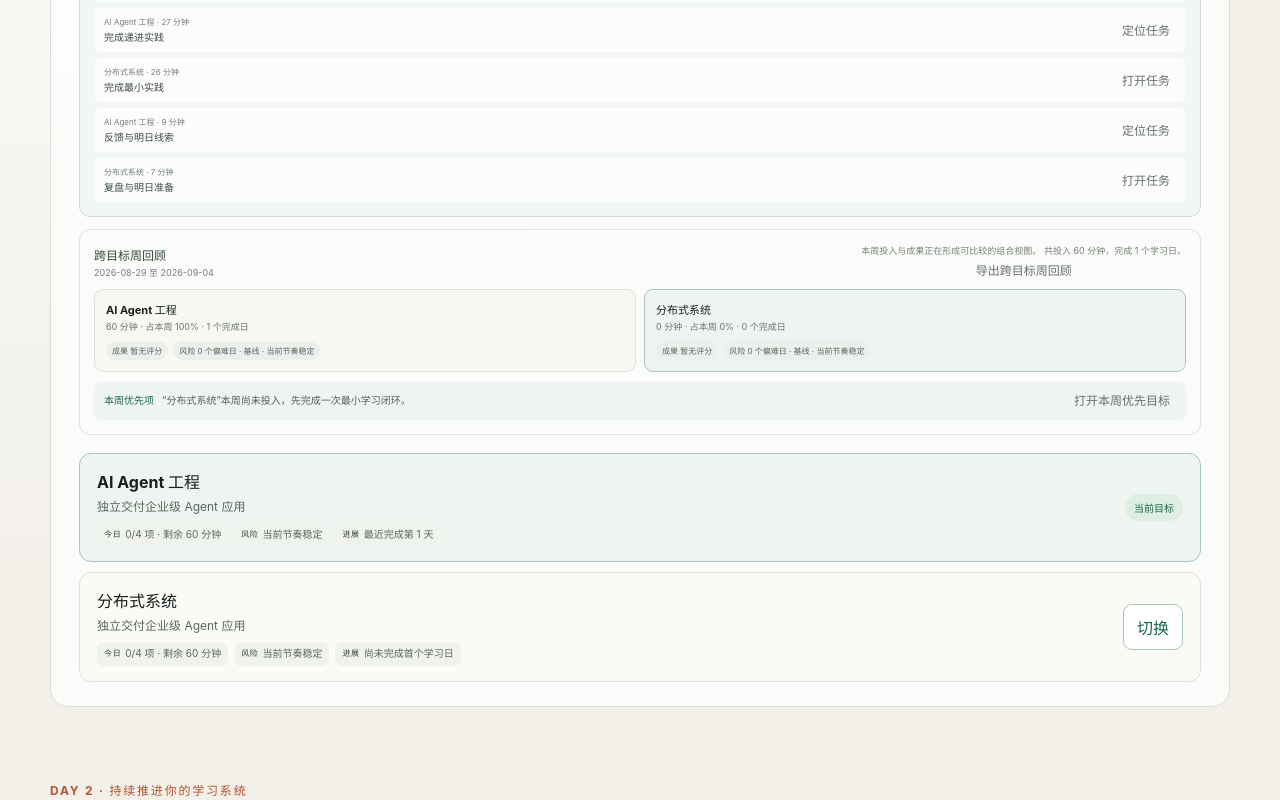
Test: learning data controls › opens the goal prioritized by the cross-goal weekly review
(page scrolled)
Expected: the text "“分布式系统”本周尚未投入，先完成一次最小学习闭环。" is shown, [162,394,411,406]
Click the button "打开本周优先目标".
click(1122, 400)  # box [1068,390,1176,410]
(page scrolled)
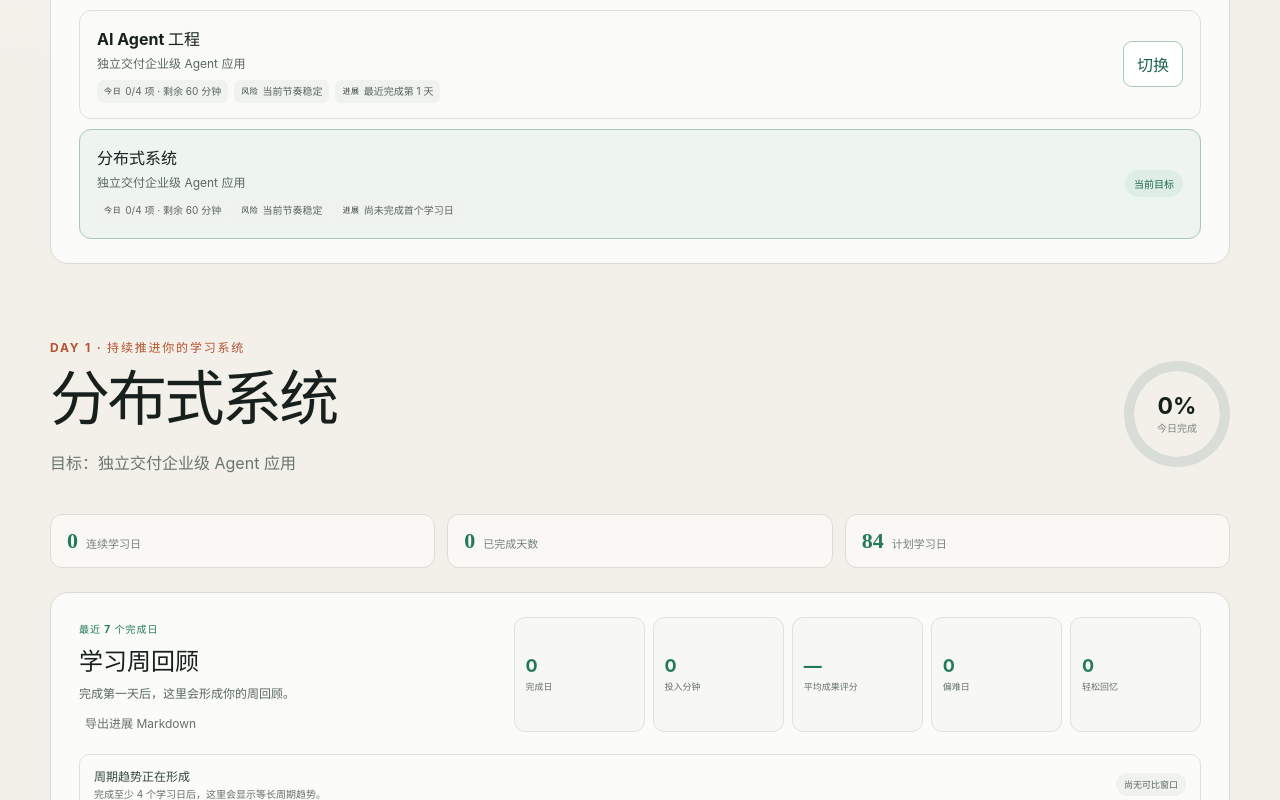
Now the heading "分布式系统" is shown, box [50,366,336,434]
